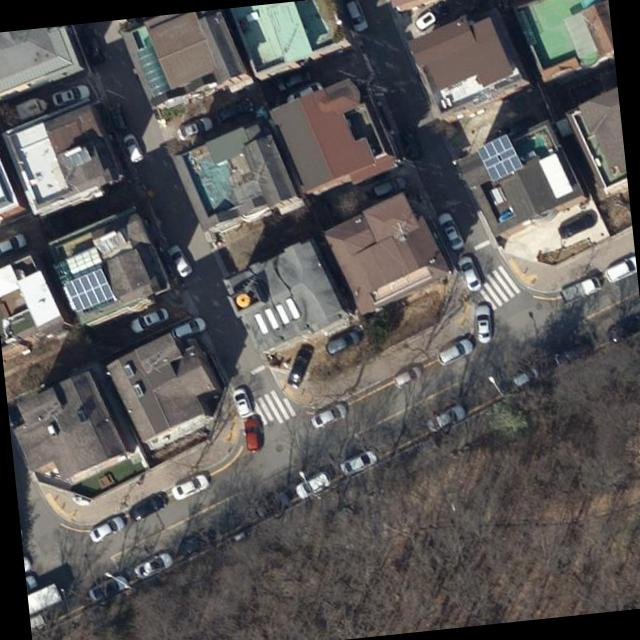solar: (474, 129, 526, 185), (60, 266, 116, 314)
